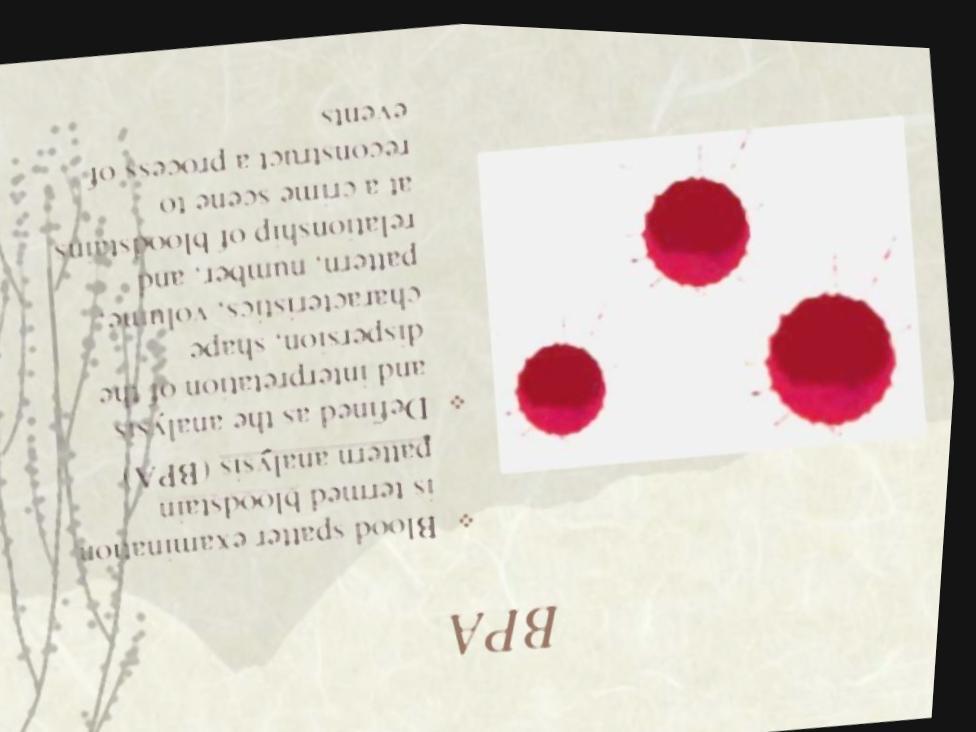Fire: (769, 284, 902, 422), (645, 168, 755, 280), (519, 336, 613, 431)
